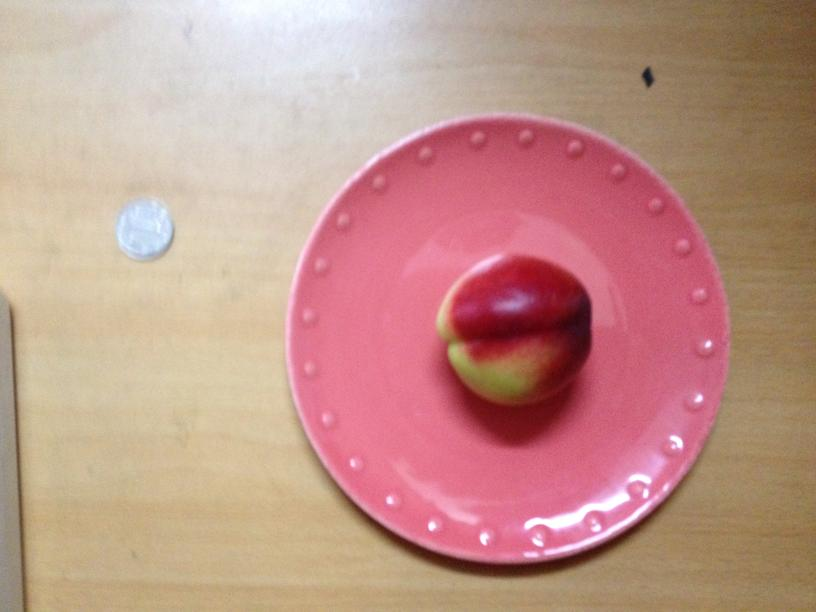coin: (111, 197, 176, 257)
peach: (431, 255, 593, 407)
